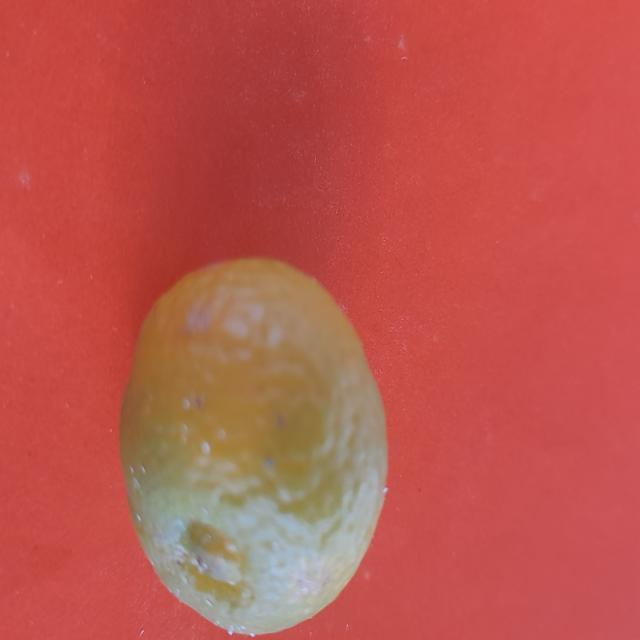greening: (127, 254, 390, 619)
